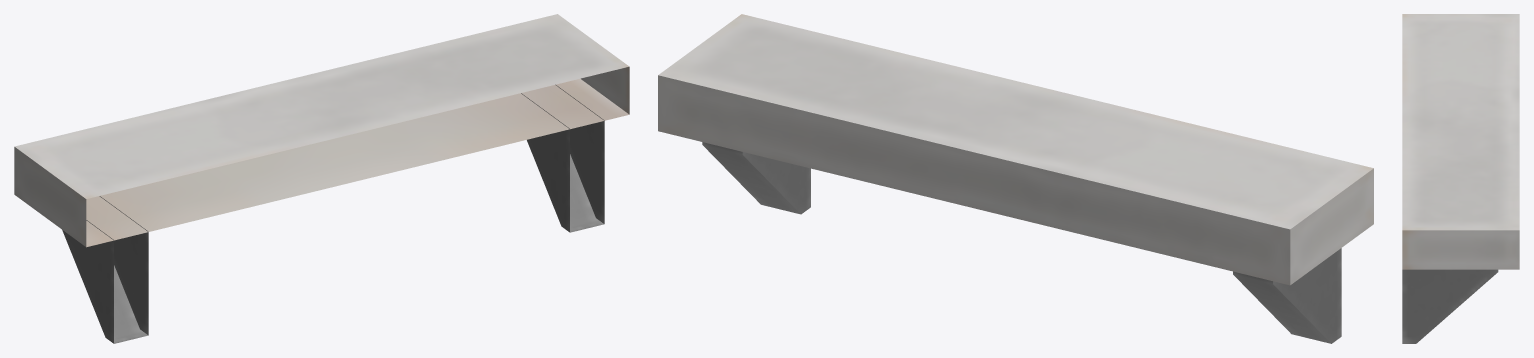
The model's file is Pfb_Indoors_Study_Shelf__8.fbx.
3 views of the same model, side by side, from view 1: azimuth 30°, elevation 25°; view 2: azimuth 150°, elevation 25°; view 3: azimuth 270°, elevation 25° (orthographic). The views are drawn at different scales.
Visible parts, largest first — view 1: Mat_Indoors_Study_01_2; view 2: Mat_Indoors_Study_01_2; view 3: Mat_Indoors_Study_01_2.
Part boxes in pixels (x1,y1,x2,y2): Mat_Indoors_Study_01_2: (14,14,629,343); Mat_Indoors_Study_01_2: (658,14,1373,343); Mat_Indoors_Study_01_2: (1402,14,1519,343).
Bounding box in the file's own units: 1.72 × 0.4586 × 0.3943.
Materials: 1 (1 with a texture image).
